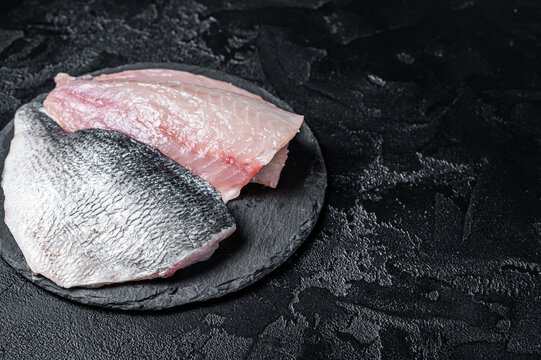bream-fish: (42, 67, 304, 202)
